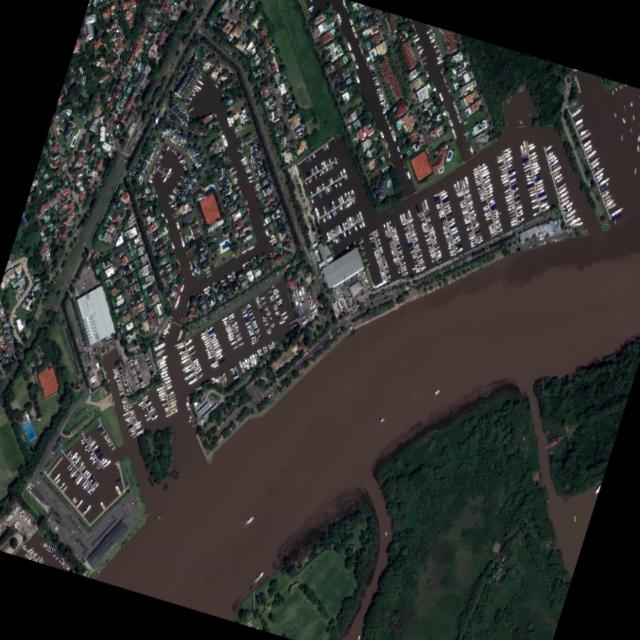ship: (546, 433, 564, 449), (609, 206, 623, 218), (597, 176, 610, 187), (560, 201, 573, 212), (579, 130, 591, 141), (586, 148, 598, 159), (588, 155, 600, 166), (592, 166, 604, 177), (564, 208, 576, 219), (567, 216, 580, 226), (220, 133, 228, 149), (581, 134, 592, 145), (558, 189, 569, 200), (577, 128, 588, 138), (590, 160, 601, 170), (550, 164, 561, 174), (570, 108, 581, 118), (556, 185, 567, 195), (561, 206, 572, 216), (564, 213, 575, 223), (374, 280, 386, 289), (604, 198, 614, 208), (556, 181, 566, 191), (559, 194, 569, 204), (559, 199, 569, 209), (598, 182, 609, 191), (610, 213, 621, 222), (389, 129, 396, 143), (350, 25, 357, 39), (242, 356, 249, 370), (569, 221, 583, 228), (449, 127, 456, 140), (237, 360, 244, 373), (573, 118, 583, 127), (594, 171, 604, 180), (548, 158, 558, 167), (553, 171, 563, 180), (554, 175, 564, 184), (583, 143, 592, 152), (546, 152, 555, 161), (547, 155, 556, 164), (550, 161, 559, 170), (245, 515, 254, 524), (540, 204, 550, 212), (521, 139, 526, 155), (313, 206, 319, 219), (250, 352, 256, 365), (344, 216, 350, 228), (341, 168, 347, 180), (383, 114, 389, 126), (335, 12, 341, 24), (240, 359, 246, 371), (504, 155, 513, 163), (507, 170, 516, 178), (534, 178, 543, 186), (537, 194, 546, 202), (539, 197, 548, 205), (602, 194, 611, 202), (422, 198, 428, 210), (582, 140, 591, 148), (478, 165, 488, 172), (437, 91, 443, 102), (225, 116, 231, 127), (248, 354, 253, 367), (531, 209, 539, 217), (481, 174, 489, 182), (482, 177, 490, 185), (584, 147, 592, 155), (601, 190, 609, 198), (544, 144, 552, 152), (545, 147, 553, 155), (546, 150, 554, 158), (551, 170, 559, 178), (441, 196, 449, 204), (603, 197, 611, 205), (300, 317, 307, 326), (502, 146, 511, 153), (535, 185, 544, 192), (536, 191, 545, 198), (480, 171, 489, 178), (483, 183, 492, 190), (484, 186, 493, 193), (486, 195, 495, 202), (487, 197, 496, 204), (531, 166, 540, 173), (455, 114, 461, 124), (463, 175, 468, 187), (420, 200, 425, 212), (414, 203, 419, 215), (193, 84, 201, 91), (230, 320, 237, 328), (508, 177, 516, 184), (503, 149, 511, 156), (536, 188, 544, 195), (502, 187, 510, 194), (477, 162, 485, 169), (485, 189, 493, 196), (533, 172, 541, 179), (595, 176, 603, 183), (575, 123, 583, 130), (600, 188, 608, 195), (527, 144, 535, 151), (529, 154, 537, 161), (530, 157, 538, 164), (448, 223, 456, 230), (439, 191, 447, 198), (446, 217, 454, 224), (350, 189, 355, 200), (347, 215, 352, 226), (405, 170, 410, 181), (246, 357, 251, 368), (336, 196, 342, 205), (338, 194, 344, 203), (378, 130, 384, 139), (165, 167, 171, 176), (161, 175, 167, 184), (606, 203, 615, 209), (357, 210, 362, 220), (468, 145, 473, 155), (346, 42, 351, 52), (354, 74, 359, 84), (406, 209, 411, 219), (398, 213, 403, 223), (387, 220, 392, 230), (381, 223, 386, 233), (458, 179, 463, 189), (452, 183, 457, 193), (381, 108, 388, 115), (420, 54, 427, 61), (196, 79, 203, 86), (192, 86, 199, 93), (228, 314, 235, 321), (249, 337, 256, 344), (505, 159, 512, 166), (507, 168, 514, 175), (508, 174, 515, 181), (509, 180, 516, 187), (511, 186, 518, 193), (512, 192, 519, 199), (526, 182, 533, 189), (526, 179, 533, 186), (497, 163, 504, 170), (483, 180, 490, 187), (592, 166, 599, 173), (440, 194, 447, 201), (444, 208, 451, 215), (448, 220, 455, 227), (451, 232, 458, 239), (452, 235, 459, 242), (329, 229, 335, 237), (435, 59, 443, 65), (305, 290, 311, 298), (512, 196, 520, 202), (503, 153, 511, 159), (535, 182, 543, 188), (539, 202, 547, 208), (526, 186, 534, 192), (523, 170, 531, 176), (522, 167, 530, 173), (521, 160, 529, 166), (480, 168, 488, 174), (454, 190, 462, 196), (452, 238, 460, 244), (454, 244, 462, 250), (321, 205, 326, 214), (330, 200, 335, 209), (343, 192, 348, 201), (359, 219, 364, 228), (333, 236, 338, 245), (325, 231, 330, 240), (336, 224, 341, 233), (383, 140, 388, 149), (444, 110, 449, 119), (350, 52, 355, 61), (299, 296, 304, 305), (519, 144, 523, 155), (221, 319, 228, 325), (220, 316, 227, 322), (223, 325, 230, 331), (224, 327, 231, 333), (231, 325, 238, 331), (227, 312, 233, 319), (227, 336, 234, 342), (226, 334, 233, 340), (226, 331, 233, 337), (159, 150, 165, 157), (239, 156, 246, 162), (240, 158, 247, 164), (187, 106, 193, 113), (272, 289, 279, 295), (275, 298, 282, 304), (280, 310, 286, 317), (260, 346, 266, 353), (243, 320, 250, 326), (505, 163, 512, 169), (506, 166, 513, 172), (510, 184, 517, 190), (513, 199, 520, 205), (514, 202, 521, 208), (516, 211, 523, 217), (517, 217, 524, 223), (510, 221, 517, 227), (508, 212, 515, 218), (507, 209, 514, 215), (529, 195, 536, 201), (530, 201, 537, 207), (529, 198, 536, 204), (522, 163, 529, 169), (521, 157, 528, 163), (492, 214, 499, 220), (489, 232, 496, 238), (482, 211, 489, 217), (482, 208, 489, 214), (479, 197, 486, 203), (477, 190, 484, 196), (476, 188, 483, 194), (492, 212, 499, 218), (491, 210, 498, 216), (490, 208, 497, 214), (489, 203, 496, 209), (500, 176, 507, 182), (498, 169, 505, 175), (486, 193, 493, 199), (488, 201, 495, 207), (533, 176, 540, 182), (528, 151, 535, 157), (531, 163, 538, 169), (471, 169, 478, 175), (406, 218, 413, 224), (458, 201, 465, 207), (467, 235, 474, 241), (466, 233, 473, 239), (463, 219, 470, 225), (460, 210, 467, 216), (442, 200, 449, 206), (442, 203, 449, 209), (443, 206, 450, 212), (445, 212, 452, 218), (469, 242, 476, 248), (464, 193, 471, 199), (469, 213, 476, 219), (470, 218, 477, 224), (471, 220, 478, 226), (472, 222, 479, 228), (473, 229, 480, 235), (475, 233, 482, 239), (449, 226, 456, 232), (450, 229, 457, 235), (455, 247, 462, 253), (447, 247, 454, 253), (444, 238, 451, 244), (442, 229, 449, 235), (434, 201, 441, 207), (146, 178, 153, 184), (242, 264, 249, 270), (328, 211, 333, 219), (328, 202, 333, 210), (346, 190, 350, 200), (327, 230, 332, 238), (338, 223, 343, 231), (350, 215, 354, 225), (355, 213, 360, 221), (448, 120, 453, 128), (395, 145, 400, 153), (347, 18, 352, 26), (358, 47, 363, 55), (255, 349, 260, 357), (297, 288, 301, 298), (514, 205, 522, 210), (504, 197, 512, 202), (503, 194, 511, 199), (612, 111, 617, 119), (530, 161, 538, 166), (401, 212, 405, 222), (385, 221, 389, 231), (455, 180, 459, 190), (324, 204, 328, 213), (341, 221, 345, 230), (439, 68, 445, 74), (367, 235, 373, 241), (381, 106, 387, 112), (428, 34, 434, 40), (425, 29, 431, 35), (411, 33, 417, 39), (413, 37, 419, 43), (417, 48, 423, 54), (223, 323, 229, 329), (235, 336, 241, 342), (229, 366, 235, 372), (237, 341, 243, 347), (235, 334, 241, 340), (234, 332, 240, 338), (232, 328, 238, 334), (231, 323, 237, 329), (229, 317, 235, 323), (231, 344, 237, 350), (229, 340, 235, 346), (189, 91, 195, 97), (307, 5, 313, 11), (310, 308, 316, 314), (309, 313, 315, 319), (256, 335, 262, 341), (493, 217, 499, 223), (495, 223, 501, 229), (487, 222, 493, 228), (476, 185, 482, 191), (499, 166, 505, 172), (418, 259, 424, 265), (404, 211, 408, 220), (466, 230, 472, 236), (465, 226, 471, 232), (469, 240, 475, 246), (476, 238, 482, 244), (461, 179, 465, 188), (463, 189, 469, 195), (466, 200, 472, 206), (469, 211, 475, 217), (474, 231, 480, 237), (432, 195, 438, 201), (433, 197, 439, 203), (437, 211, 443, 217), (326, 213, 331, 220), (352, 224, 357, 231), (304, 171, 309, 178), (281, 315, 288, 320), (266, 343, 271, 350), (515, 209, 522, 214), (509, 219, 516, 224), (506, 206, 513, 211), (506, 203, 513, 208), (505, 200, 512, 205), (531, 204, 538, 209), (528, 192, 535, 197), (525, 176, 532, 181), (524, 173, 531, 178), (494, 222, 501, 227), (496, 228, 503, 233), (487, 225, 494, 230), (484, 216, 491, 221), (481, 204, 488, 209), (478, 195, 485, 200), (473, 177, 480, 182), (499, 173, 506, 178), (496, 158, 503, 163), (620, 117, 625, 124), (464, 224, 471, 229), (462, 217, 469, 222), (461, 213, 468, 218), (460, 208, 467, 213), (459, 206, 466, 211), (458, 204, 465, 209), (475, 236, 482, 241), (464, 196, 471, 201), (465, 198, 472, 203), (466, 203, 473, 208), (448, 252, 455, 257), (446, 245, 453, 250), (438, 216, 445, 221), (437, 214, 444, 219), (63, 563, 68, 570), (321, 216, 325, 224), (357, 221, 361, 229), (344, 229, 348, 237), (336, 235, 340, 243), (334, 226, 338, 234), (343, 221, 347, 229), (353, 215, 357, 223), (337, 179, 341, 187), (463, 134, 467, 142), (442, 76, 446, 84), (354, 62, 358, 70), (253, 351, 257, 359), (235, 143, 239, 151), (258, 348, 262, 356), (293, 298, 297, 306), (300, 287, 304, 295), (294, 289, 298, 297), (291, 291, 295, 299), (270, 340, 274, 348), (635, 144, 639, 152), (517, 117, 521, 125), (435, 55, 441, 60), (434, 389, 439, 395), (375, 89, 381, 94), (377, 92, 382, 98), (378, 96, 383, 102), (379, 100, 385, 105), (373, 81, 379, 86), (429, 38, 435, 43), (415, 45, 421, 50), (223, 321, 229, 326), (232, 375, 238, 380), (231, 373, 237, 378), (231, 370, 236, 376), (226, 330, 232, 335), (241, 161, 247, 166), (265, 312, 271, 317), (271, 288, 277, 293), (273, 294, 279, 299), (276, 301, 282, 306), (278, 320, 284, 325), (245, 324, 251, 329), (253, 328, 259, 333), (250, 340, 256, 345), (247, 330, 253, 335), (246, 328, 252, 333), (246, 326, 252, 331), (241, 313, 247, 318), (239, 308, 245, 313), (238, 306, 244, 311), (246, 308, 252, 313), (248, 314, 254, 319), (509, 216, 515, 221), (528, 189, 534, 194), (521, 154, 527, 159), (484, 213, 490, 218), (493, 220, 499, 225), (495, 226, 501, 231), (489, 229, 495, 234), (488, 227, 494, 232), (482, 206, 488, 211), (480, 200, 486, 205), (478, 193, 484, 198), (475, 181, 481, 186), (474, 179, 480, 184), (502, 182, 508, 187), (501, 179, 507, 184), (496, 155, 502, 160), (532, 170, 538, 175), (526, 143, 532, 148), (473, 174, 479, 179), (472, 172, 478, 177), (411, 236, 417, 241), (413, 242, 419, 247), (415, 248, 421, 253), (416, 253, 422, 258), (408, 249, 414, 254), (407, 245, 413, 250), (407, 243, 413, 248), (406, 241, 412, 246), (405, 237, 411, 242), (410, 232, 416, 237), (409, 228, 415, 233), (426, 244, 432, 249), (424, 237, 430, 242), (423, 233, 429, 238), (421, 227, 427, 232), (420, 225, 426, 230), (420, 223, 426, 228), (417, 215, 423, 220), (417, 213, 423, 218), (407, 222, 413, 227), (408, 224, 414, 229), (392, 258, 398, 263), (391, 256, 397, 261), (390, 252, 396, 257), (389, 248, 395, 253), (395, 268, 401, 273), (390, 230, 396, 235), (395, 245, 401, 250), (396, 249, 402, 254), (398, 255, 404, 260), (398, 257, 404, 262), (399, 259, 405, 264), (400, 263, 406, 268), (401, 267, 407, 272), (471, 167, 477, 172), (462, 215, 468, 220), (458, 199, 464, 204), (439, 189, 444, 195), (468, 238, 474, 243), (462, 187, 468, 192), (467, 205, 473, 210), (468, 209, 474, 214), (430, 258, 436, 263), (429, 232, 435, 237), (424, 215, 430, 220), (425, 219, 431, 224), (427, 222, 432, 228), (428, 230, 434, 235), (430, 236, 436, 241), (434, 250, 440, 255), (435, 251, 441, 256), (435, 253, 441, 258), (436, 255, 442, 260), (436, 257, 442, 262), (448, 250, 454, 255), (446, 243, 452, 248), (444, 236, 450, 241), (443, 232, 449, 237), (442, 227, 448, 232), (441, 225, 447, 230), (440, 223, 446, 228), (437, 209, 443, 214), (435, 204, 441, 209), (45, 545, 50, 551), (50, 548, 55, 554), (54, 555, 59, 561), (57, 556, 62, 562), (58, 557, 63, 563), (59, 559, 64, 565), (204, 272, 210, 277), (331, 136, 336, 142), (342, 203, 346, 210), (332, 209, 336, 216), (325, 214, 329, 221), (309, 197, 313, 204), (317, 192, 321, 199), (323, 188, 327, 195), (331, 237, 335, 244), (355, 222, 359, 229), (346, 228, 350, 235), (332, 228, 336, 235), (331, 183, 335, 190), (333, 182, 337, 189), (306, 170, 310, 177), (308, 169, 312, 176), (310, 167, 314, 174), (312, 166, 316, 173), (314, 165, 318, 172), (315, 164, 319, 171), (319, 161, 323, 168), (321, 160, 325, 167), (324, 159, 328, 166), (341, 177, 345, 184), (338, 170, 342, 177), (320, 182, 324, 189), (317, 184, 321, 191), (315, 185, 319, 192), (313, 186, 317, 193), (313, 174, 317, 181), (341, 0, 345, 7), (156, 163, 160, 170), (307, 295, 311, 302), (263, 345, 267, 352), (630, 114, 634, 121), (373, 252, 378, 257), (378, 94, 383, 99), (230, 369, 235, 374), (157, 155, 162, 160), (190, 88, 195, 93), (186, 96, 191, 101), (266, 289, 271, 294), (274, 312, 279, 317), (273, 310, 278, 315), (272, 305, 277, 310), (271, 303, 276, 308), (269, 298, 274, 303), (273, 292, 278, 297), (277, 303, 282, 308), (310, 304, 315, 309), (254, 330, 259, 335), (248, 332, 253, 337), (242, 315, 247, 320), (241, 311, 246, 316), (252, 325, 257, 330), (252, 323, 257, 328), (251, 321, 256, 326), (250, 319, 255, 324), (269, 322, 274, 327), (258, 308, 263, 313), (257, 305, 262, 310), (254, 297, 259, 302), (253, 295, 258, 300), (247, 310, 252, 315), (247, 312, 252, 317), (249, 315, 254, 320), (412, 238, 417, 243), (420, 265, 425, 270), (411, 266, 416, 271), (412, 259, 417, 264), (410, 253, 415, 258), (408, 247, 413, 252), (406, 239, 411, 244), (419, 217, 424, 222), (405, 235, 410, 240), (394, 262, 399, 267), (390, 250, 395, 255), (385, 233, 390, 238), (372, 229, 377, 234), (375, 238, 380, 243), (401, 221, 406, 226), (392, 234, 397, 239), (395, 243, 400, 248), (400, 261, 405, 266), (401, 265, 406, 270), (430, 256, 435, 261), (470, 216, 475, 221), (423, 211, 428, 216), (425, 217, 430, 222), (428, 226, 433, 231), (428, 228, 433, 233), (430, 234, 435, 239), (432, 242, 437, 247), (60, 561, 65, 566), (330, 211, 334, 217), (322, 145, 326, 151), (307, 156, 311, 162), (304, 158, 308, 164), (306, 178, 310, 184), (329, 177, 333, 183), (327, 178, 331, 184), (310, 189, 314, 195), (307, 191, 311, 197), (378, 418, 384, 422), (383, 269, 389, 273), (377, 268, 383, 272), (367, 66, 373, 70), (165, 145, 169, 151), (162, 167, 166, 173), (297, 301, 301, 307), (249, 336, 255, 340), (240, 310, 246, 314), (245, 307, 251, 311), (633, 167, 636, 175), (622, 105, 626, 111), (619, 133, 622, 141), (414, 269, 420, 273), (417, 256, 423, 260), (419, 264, 425, 268), (404, 234, 410, 238), (428, 251, 434, 255), (427, 249, 433, 253), (427, 247, 433, 251), (425, 241, 431, 245), (429, 255, 435, 259), (386, 237, 392, 241), (386, 239, 392, 243), (402, 271, 408, 275), (401, 226, 407, 230), (390, 228, 396, 232), (391, 232, 397, 236), (392, 236, 398, 240), (393, 238, 399, 242), (393, 240, 399, 244), (456, 193, 462, 197), (433, 246, 439, 250), (446, 241, 452, 245), (444, 234, 450, 238), (42, 542, 46, 548), (49, 547, 53, 553), (61, 562, 65, 568), (344, 202, 347, 209), (319, 183, 322, 190), (151, 168, 154, 175), (309, 299, 312, 306), (636, 134, 639, 141), (324, 144, 328, 149), (303, 181, 307, 186), (363, 279, 368, 283), (345, 284, 349, 289), (434, 48, 439, 52), (437, 57, 441, 62), (434, 50, 439, 54), (382, 264, 387, 268), (383, 267, 388, 271), (384, 271, 389, 275), (385, 274, 390, 278), (380, 277, 385, 281), (379, 273, 384, 277), (378, 270, 383, 274), (377, 266, 382, 270), (376, 263, 381, 267), (375, 259, 380, 263), (374, 254, 378, 259), (372, 249, 377, 253), (432, 45, 437, 49), (375, 87, 380, 91), (371, 72, 376, 76), (213, 84, 218, 88), (170, 148, 174, 153), (174, 151, 178, 156), (158, 153, 162, 158), (167, 171, 171, 176), (275, 316, 280, 320), (275, 314, 280, 318), (270, 300, 275, 304), (269, 296, 273, 301), (268, 295, 273, 299), (267, 293, 272, 297), (259, 296, 264, 300), (304, 288, 308, 293), (299, 316, 304, 320), (264, 310, 269, 314), (266, 315, 271, 319), (253, 327, 258, 331), (256, 334, 260, 339), (249, 334, 254, 338), (244, 319, 249, 323), (243, 317, 248, 321), (269, 324, 274, 328), (265, 329, 270, 333), (263, 322, 268, 326), (261, 317, 266, 321), (256, 304, 261, 308), (254, 299, 259, 303), (244, 303, 249, 307), (245, 305, 250, 309), (381, 260, 386, 264), (505, 191, 510, 195), (617, 85, 621, 90), (414, 246, 419, 250), (419, 262, 424, 266), (414, 267, 419, 271), (413, 263, 418, 267), (411, 255, 415, 260), (410, 251, 415, 255), (411, 235, 416, 239), (424, 235, 429, 239), (420, 221, 425, 225), (407, 221, 412, 225), (404, 232, 409, 236), (395, 266, 400, 270), (393, 260, 398, 264), (389, 247, 394, 251), (388, 243, 393, 247), (388, 241, 393, 245), (403, 230, 408, 234), (385, 231, 390, 235), (373, 231, 377, 236), (373, 233, 378, 237), (374, 237, 379, 241), (375, 240, 380, 244), (377, 245, 382, 249), (377, 247, 382, 251), (403, 228, 408, 232), (394, 242, 399, 246), (429, 253, 434, 257), (463, 192, 468, 196), (473, 228, 478, 232), (427, 225, 432, 229), (432, 240, 436, 245), (434, 248, 439, 252), (433, 193, 438, 197), (441, 221, 446, 225), (148, 175, 153, 179), (24, 553, 28, 558), (43, 544, 47, 549), (47, 547, 51, 552), (65, 565, 69, 570), (66, 566, 70, 571), (211, 282, 216, 286), (348, 200, 351, 206), (346, 201, 349, 207), (339, 205, 342, 211), (326, 187, 329, 193), (387, 151, 390, 157), (359, 236, 362, 242), (342, 231, 345, 237), (328, 186, 331, 192), (327, 158, 330, 164), (308, 177, 311, 183), (333, 175, 336, 181), (309, 190, 312, 196), (319, 170, 322, 176), (318, 171, 321, 177), (316, 172, 319, 178), (311, 175, 314, 181), (361, 271, 364, 277), (425, 72, 428, 78), (637, 122, 640, 128), (629, 101, 632, 107), (383, 265, 387, 269), (381, 278, 385, 282), (377, 264, 381, 268), (376, 261, 380, 265), (375, 258, 379, 262), (373, 251, 377, 255), (370, 239, 374, 243), (368, 232, 372, 236), (377, 91, 381, 95), (432, 42, 436, 46), (462, 132, 466, 136), (373, 79, 377, 83), (428, 34, 432, 38), (368, 64, 372, 68), (371, 76, 375, 80), (198, 75, 202, 79), (244, 165, 248, 169), (244, 167, 248, 171), (277, 319, 281, 323), (273, 307, 277, 311), (261, 301, 265, 305), (263, 308, 267, 312), (309, 9, 313, 13), (267, 317, 271, 321), (266, 331, 270, 335), (265, 327, 269, 331), (262, 318, 266, 322), (261, 315, 265, 319), (256, 302, 260, 306), (250, 318, 254, 322), (382, 262, 386, 266), (378, 249, 382, 253), (414, 244, 418, 248), (418, 258, 422, 262), (410, 231, 414, 235), (426, 239, 430, 243), (423, 229, 427, 233), (409, 227, 413, 231), (387, 235, 391, 239), (374, 235, 378, 239), (376, 242, 380, 246), (397, 270, 401, 274), (402, 270, 406, 274), (397, 252, 401, 256), (398, 254, 402, 258), (426, 221, 430, 225), (438, 207, 442, 211), (156, 516, 160, 520), (337, 206, 340, 211), (336, 207, 339, 212), (352, 240, 355, 245), (321, 146, 324, 151), (311, 153, 314, 158), (336, 174, 339, 179), (328, 165, 331, 170), (326, 166, 329, 171), (325, 167, 328, 172), (320, 169, 323, 174), (455, 110, 458, 115), (453, 106, 456, 111), (446, 87, 449, 92), (417, 52, 422, 55), (173, 150, 176, 155), (167, 146, 170, 151), (260, 349, 263, 354), (269, 344, 272, 349), (255, 301, 260, 304), (615, 86, 618, 91), (637, 94, 640, 99), (610, 90, 613, 95), (389, 245, 394, 248), (356, 635, 359, 640), (51, 551, 54, 556), (53, 554, 56, 559), (316, 220, 319, 224), (349, 199, 352, 203), (451, 100, 454, 104), (573, 515, 575, 521), (380, 275, 384, 278), (379, 272, 383, 275), (436, 54, 440, 57), (381, 103, 385, 106), (383, 104, 386, 108), (387, 126, 390, 130), (415, 42, 418, 46), (155, 160, 159, 163), (161, 168, 164, 172), (160, 174, 163, 178), (153, 170, 156, 174), (270, 285, 274, 288), (263, 306, 266, 310), (422, 62, 426, 65), (379, 250, 382, 254), (495, 155, 498, 159), (620, 84, 623, 88), (629, 127, 631, 133), (431, 239, 435, 242), (433, 245, 437, 248), (147, 177, 151, 180), (52, 554, 55, 558), (326, 140, 328, 145), (330, 164, 332, 169), (324, 167, 326, 172), (442, 104, 444, 109), (297, 297, 299, 302), (376, 83, 379, 86), (309, 0, 312, 3), (306, 318, 309, 321), (309, 306, 311, 310), (614, 87, 616, 91), (613, 221, 615, 224), (434, 249, 436, 251), (253, 136, 255, 138)
small-vehicle: (245, 20, 248, 24), (227, 18, 230, 22), (347, 126, 350, 130), (443, 139, 446, 143), (207, 393, 210, 397), (193, 184, 197, 187), (196, 326, 200, 329), (192, 137, 194, 142), (119, 68, 122, 71), (114, 77, 117, 80), (111, 140, 114, 143), (153, 14, 156, 17), (265, 62, 268, 65), (263, 54, 266, 57), (223, 9, 226, 12), (161, 16, 164, 19), (177, 72, 180, 75), (167, 116, 170, 119), (156, 13, 159, 16), (346, 292, 349, 295), (344, 300, 347, 303), (341, 293, 344, 296), (349, 300, 352, 303), (357, 295, 360, 298), (359, 282, 362, 285), (362, 303, 365, 306), (346, 279, 349, 282), (131, 174, 134, 177), (347, 278, 350, 281), (274, 89, 277, 92), (276, 93, 279, 96), (546, 240, 549, 243), (544, 241, 547, 244), (533, 244, 536, 247), (424, 148, 427, 151), (427, 136, 430, 139), (429, 139, 432, 142), (511, 229, 514, 232), (477, 100, 480, 103), (471, 83, 474, 86), (457, 41, 460, 44), (223, 401, 226, 404), (212, 409, 215, 412), (215, 406, 218, 409), (191, 189, 194, 192), (202, 167, 205, 170), (199, 172, 202, 175), (222, 306, 225, 309), (131, 351, 134, 354), (151, 327, 154, 330), (191, 329, 194, 332), (325, 340, 328, 343), (324, 341, 327, 344), (183, 202, 186, 205), (296, 367, 299, 370), (295, 368, 298, 371), (275, 387, 278, 390), (271, 275, 274, 278), (270, 275, 272, 279), (110, 135, 112, 139), (339, 283, 341, 287), (342, 281, 344, 285), (428, 158, 430, 162), (210, 396, 212, 400), (199, 320, 201, 324), (147, 380, 149, 384), (200, 319, 202, 323), (213, 310, 215, 314), (204, 317, 206, 321), (276, 271, 278, 275), (265, 279, 267, 282), (117, 73, 119, 76), (116, 75, 119, 77), (141, 146, 143, 149), (148, 132, 150, 135), (138, 151, 140, 154), (136, 156, 138, 159), (133, 161, 135, 164), (132, 164, 134, 167), (130, 169, 132, 172), (76, 194, 78, 197), (158, 18, 161, 20), (231, 3, 233, 6), (267, 71, 270, 73), (260, 70, 263, 72), (261, 67, 263, 70), (242, 19, 244, 22), (227, 6, 229, 9), (211, 0, 213, 3), (175, 77, 177, 80), (184, 61, 186, 64), (188, 59, 191, 61), (170, 87, 172, 90), (166, 115, 168, 118), (128, 172, 130, 175), (127, 175, 129, 178), (132, 172, 135, 174), (340, 283, 342, 286), (345, 288, 348, 290), (345, 290, 348, 292), (347, 296, 350, 298), (343, 298, 346, 300), (345, 318, 347, 321), (131, 173, 134, 175), (366, 288, 369, 290), (367, 290, 370, 292), (341, 282, 343, 285), (73, 230, 75, 233), (26, 271, 28, 274), (16, 305, 18, 308), (14, 307, 16, 310), (38, 286, 40, 289), (109, 258, 111, 261), (80, 287, 83, 289), (77, 287, 79, 290), (128, 50, 130, 53), (358, 271, 360, 274), (356, 272, 358, 275), (355, 273, 357, 276), (354, 274, 356, 277), (353, 275, 355, 278), (351, 276, 353, 279), (350, 277, 352, 280), (266, 66, 268, 69), (595, 199, 597, 202), (584, 176, 587, 178), (584, 174, 587, 176), (582, 170, 585, 172), (583, 173, 586, 175), (576, 155, 579, 157), (573, 148, 576, 150), (548, 240, 550, 243), (543, 241, 545, 244), (541, 242, 543, 245), (530, 246, 533, 248), (375, 17, 377, 20), (425, 151, 428, 153), (420, 141, 422, 144), (415, 121, 417, 124), (410, 87, 412, 90), (417, 107, 419, 110), (486, 121, 488, 124), (486, 124, 488, 127), (392, 35, 395, 37), (382, 26, 384, 29), (528, 241, 530, 244), (363, 166, 366, 168), (351, 134, 353, 137), (320, 51, 323, 53), (287, 140, 289, 143), (292, 129, 294, 132), (279, 99, 281, 102), (294, 140, 296, 143), (434, 151, 436, 154), (534, 240, 536, 243), (564, 124, 567, 126), (549, 212, 551, 215), (516, 239, 519, 241), (520, 230, 523, 232), (524, 228, 526, 231), (542, 215, 544, 218), (544, 214, 546, 217), (523, 224, 525, 227), (543, 237, 546, 239), (471, 82, 474, 84), (468, 74, 470, 77), (464, 61, 467, 63), (361, 299, 363, 302), (363, 298, 365, 301), (217, 396, 219, 399), (217, 402, 219, 405), (209, 442, 212, 444), (238, 381, 240, 384), (269, 393, 271, 396), (274, 389, 277, 391), (229, 221, 232, 223), (218, 187, 220, 190), (221, 195, 223, 198), (194, 183, 197, 185), (225, 304, 227, 307), (222, 299, 224, 302), (220, 300, 222, 303), (148, 268, 150, 271), (149, 271, 151, 274), (153, 284, 155, 287), (155, 289, 158, 291), (158, 299, 161, 301), (154, 326, 156, 329), (153, 328, 155, 331), (197, 321, 199, 324), (148, 380, 150, 383), (144, 382, 146, 385), (201, 319, 203, 322), (203, 318, 205, 321), (214, 310, 216, 313), (192, 188, 194, 191), (188, 204, 191, 206), (132, 323, 134, 326), (334, 332, 337, 334), (328, 337, 331, 339), (322, 343, 325, 345), (312, 346, 315, 348), (321, 344, 324, 346), (317, 349, 320, 351), (300, 364, 303, 366), (299, 365, 302, 367), (287, 376, 290, 378), (283, 256, 285, 259), (266, 278, 268, 281), (219, 225, 221, 228), (218, 226, 220, 229), (161, 20, 163, 22), (118, 71, 120, 73), (90, 115, 92, 117), (142, 145, 144, 147), (149, 130, 151, 132), (135, 159, 137, 161), (131, 166, 133, 168), (151, 13, 153, 15), (262, 72, 264, 74), (241, 28, 243, 30), (176, 75, 178, 77), (159, 15, 161, 17), (342, 295, 344, 297), (365, 282, 367, 284), (366, 285, 368, 287), (366, 287, 368, 289), (363, 292, 365, 294), (365, 302, 367, 304), (74, 235, 76, 237), (82, 282, 84, 284), (82, 243, 84, 245), (110, 188, 112, 190), (583, 172, 585, 174), (590, 189, 592, 191), (589, 187, 591, 189), (588, 184, 590, 186), (532, 245, 534, 247), (564, 236, 566, 238), (560, 237, 562, 239), (535, 244, 537, 246), (352, 138, 354, 140), (351, 136, 353, 138), (286, 138, 288, 140), (285, 141, 287, 143), (277, 95, 279, 97), (457, 40, 459, 42), (531, 241, 533, 243), (516, 238, 518, 240), (476, 94, 478, 96), (465, 62, 467, 64), (467, 73, 469, 75), (362, 299, 364, 301), (267, 396, 269, 398), (225, 298, 227, 300), (226, 297, 228, 299), (272, 391, 274, 393), (183, 333, 185, 335), (221, 197, 223, 199), (149, 270, 151, 272), (158, 298, 160, 300), (137, 354, 139, 356), (333, 334, 335, 336), (327, 339, 329, 341), (320, 345, 322, 347), (313, 352, 315, 354), (311, 354, 313, 356), (118, 70, 121, 71), (140, 149, 141, 152), (346, 280, 347, 283), (56, 144, 57, 147), (35, 315, 36, 318), (585, 178, 588, 179), (581, 169, 584, 170), (410, 85, 411, 88), (379, 38, 382, 39), (530, 241, 531, 244), (547, 213, 548, 216), (546, 214, 547, 217), (229, 220, 232, 221), (134, 351, 135, 354), (146, 382, 147, 385), (316, 349, 317, 352), (317, 341, 320, 342), (306, 351, 309, 352), (305, 359, 308, 360), (167, 94, 168, 96), (340, 320, 341, 322), (347, 291, 348, 293), (342, 319, 343, 321), (365, 284, 367, 285), (366, 297, 367, 299), (367, 297, 368, 299), (110, 236, 111, 238), (349, 278, 350, 280), (608, 217, 609, 219), (590, 191, 592, 192), (588, 186, 590, 187), (556, 233, 557, 235), (232, 422, 234, 423), (234, 420, 236, 421), (230, 223, 232, 224), (315, 351, 316, 353), (533, 241, 534, 242)
storage-tank: (291, 345, 297, 352)
